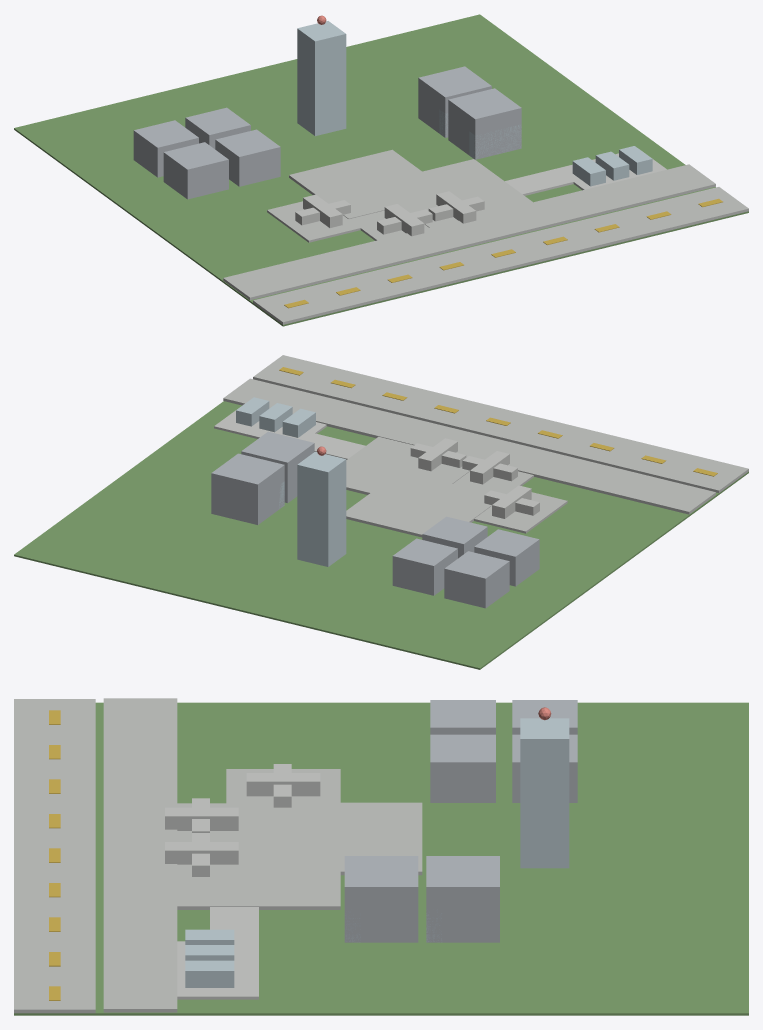
The model's file is stage_15.glb.
3 renders of one model, top to bottom at view 1: azimuth 30°, elevation 25°; view 2: azimuth 150°, elevation 25°; view 3: azimuth 270°, elevation 25°, orthographic. The views are drawn at different scales.
Parts seen in each view (by area): view 1: geometry_0; view 2: geometry_0; view 3: geometry_0.
Boxes of the visible parts, x1=… form: geometry_0: x1=14, y1=14, x2=748, y2=326; geometry_0: x1=14, y1=355, x2=748, y2=669; geometry_0: x1=14, y1=698, x2=748, y2=1015.
Size of the model in its own units: 9 by 2.06 by 9.
